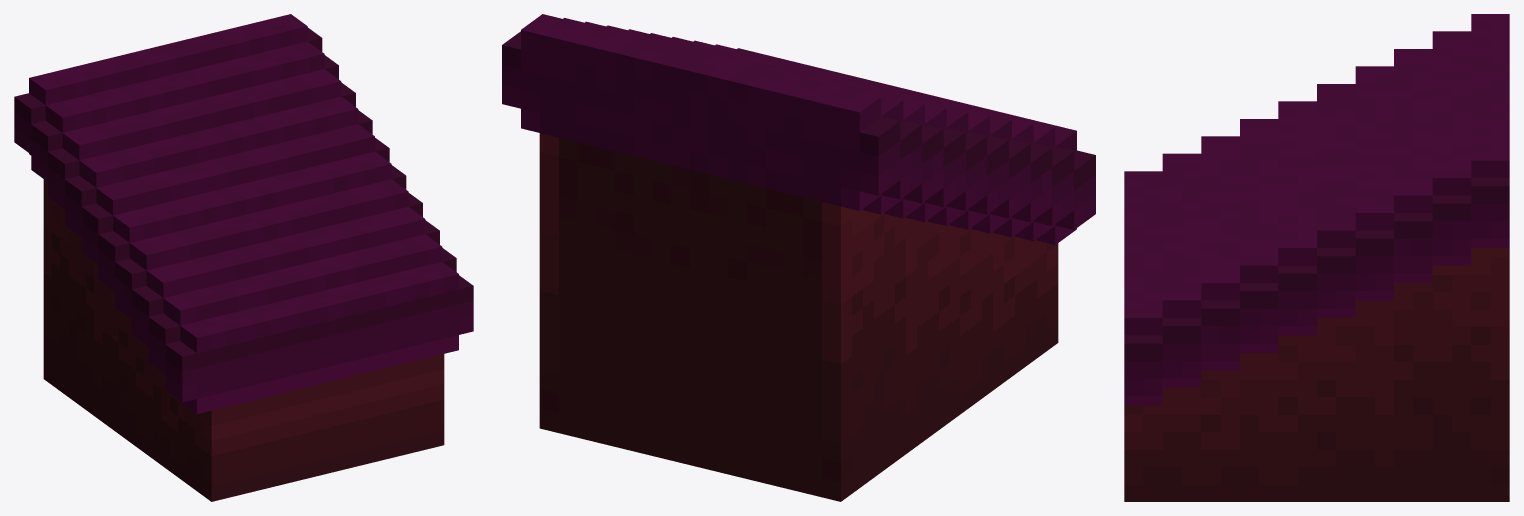
The model's file is half_ramp_full.glb.
3 renders of one model, left to right at view 1: azimuth 30°, elevation 25°; view 2: azimuth 150°, elevation 25°; view 3: azimuth 270°, elevation 25°, orthographic. The views are drawn at different scales.
Parts seen in each view (by area): view 1: half_ramp_full; view 2: half_ramp_full; view 3: half_ramp_full.
Boxes of the visible parts, left/top/right/bottom form: half_ramp_full: left=14, top=14, right=473, bottom=501; half_ramp_full: left=502, top=14, right=1095, bottom=501; half_ramp_full: left=1124, top=14, right=1509, bottom=501.
Bounding box in the file's own units: 2 × 2 × 2.
1 material, 1 textured.
